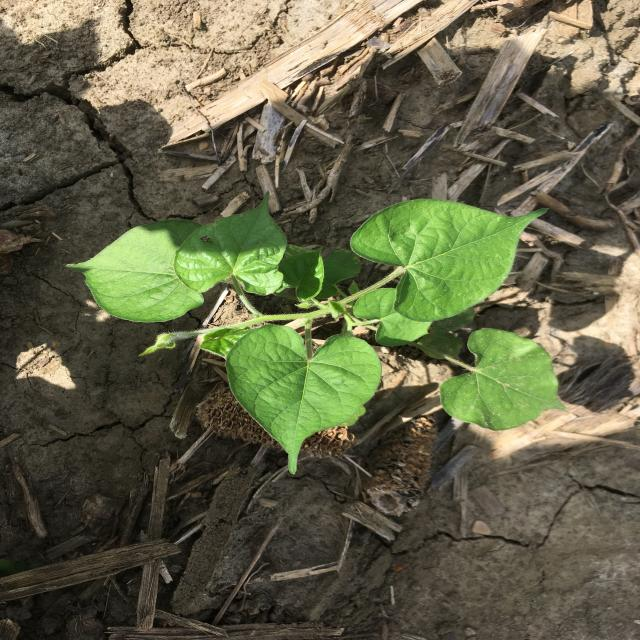MorningGlory: (64, 192, 570, 474)
